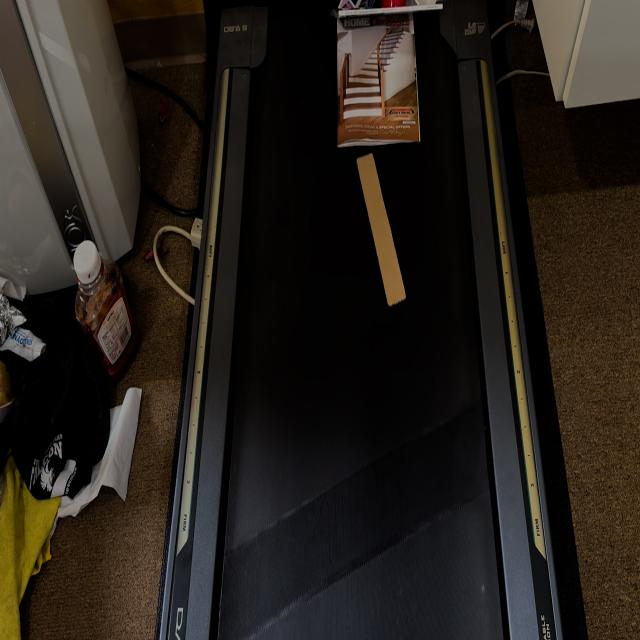Recycle: (333, 0, 424, 150), (353, 152, 410, 310)
